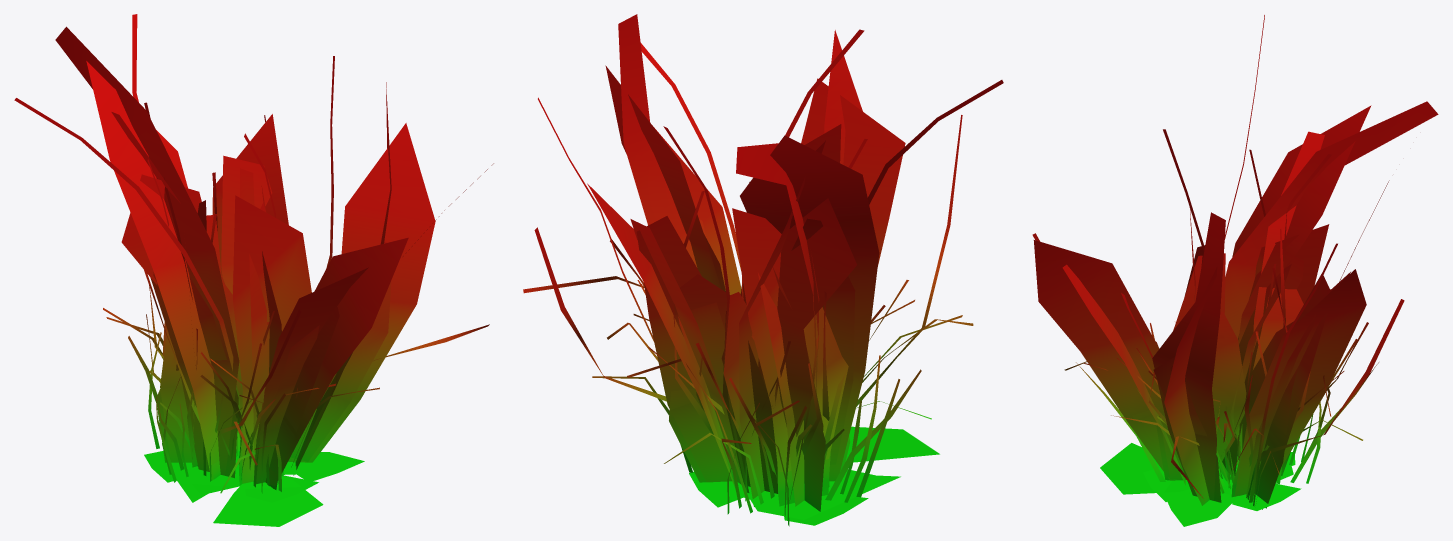
The model's file is Var2_LOD1.fbx.
The picture shows the model from 3 angles, left to right: view 1: azimuth 30°, elevation 25°; view 2: azimuth 150°, elevation 25°; view 3: azimuth 270°, elevation 25°; orthographic projection. The views are drawn at different scales.
Visible parts, largest first — view 1: _855f_Var2_LOD1; view 2: _855f_Var2_LOD1; view 3: _855f_Var2_LOD1.
Part boxes in pixels (bbox=[...]): _855f_Var2_LOD1: bbox=[14, 14, 493, 526]; _855f_Var2_LOD1: bbox=[523, 14, 1003, 526]; _855f_Var2_LOD1: bbox=[1032, 15, 1438, 526].
Size of the model in its own units: 47.42 by 42.5 by 40.74.
